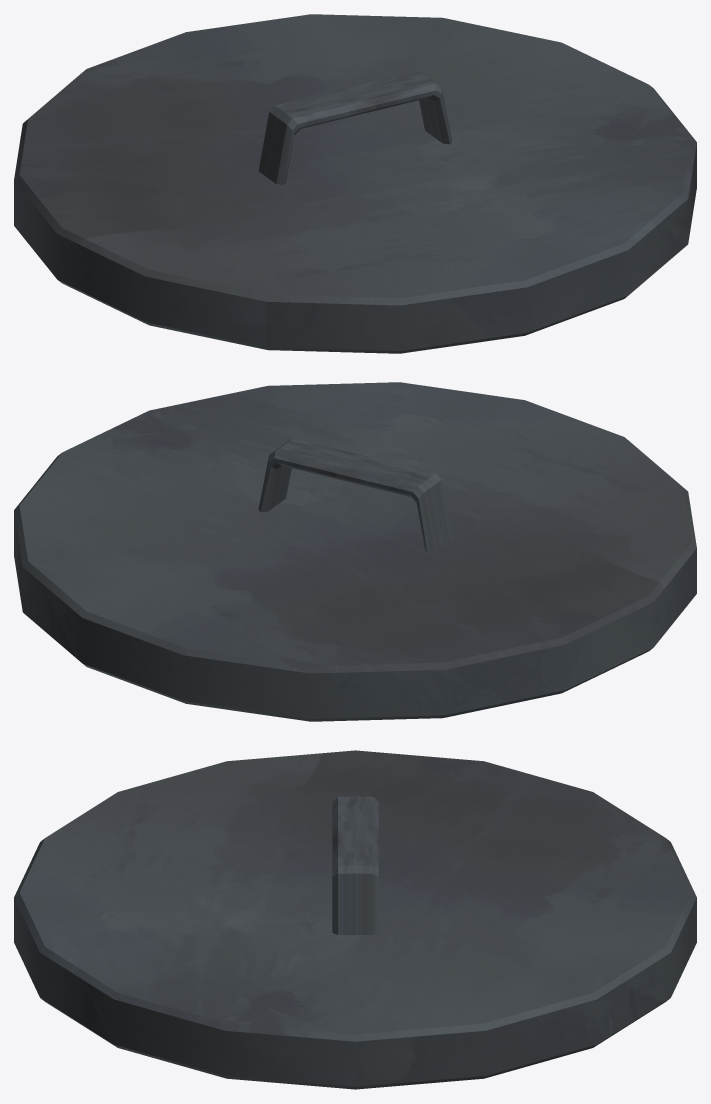
Rendered from Tank can.fbx.
3 renders of one model, top to bottom at view 1: azimuth 30°, elevation 25°; view 2: azimuth 150°, elevation 25°; view 3: azimuth 270°, elevation 25°, orthographic.
Parts seen in each view (by area): view 1: Tank can; view 2: Tank can; view 3: Tank can.
Part boxes in pixels (<box>): Tank can: <box>14,14,696,353</box>; Tank can: <box>14,382,696,721</box>; Tank can: <box>14,750,696,1089</box>.
Size of the model in its own units: 49.66 by 9.33 by 49.66.
